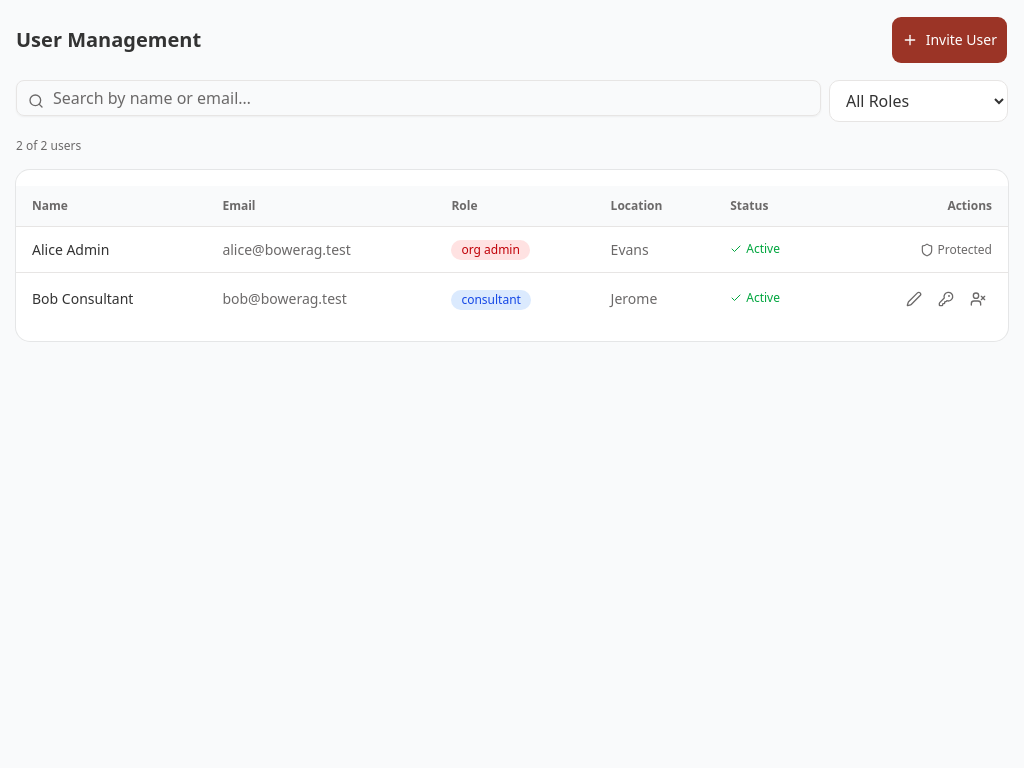
Test: AdminUsers › 5. shows invite modal on button click
The image size is (1024, 768).
Check: the heading "User Management" is shown, box [16, 26, 201, 54]
# Click Invite User button
Click the button "Invite User" at (949, 40), box [891, 16, 1008, 64]
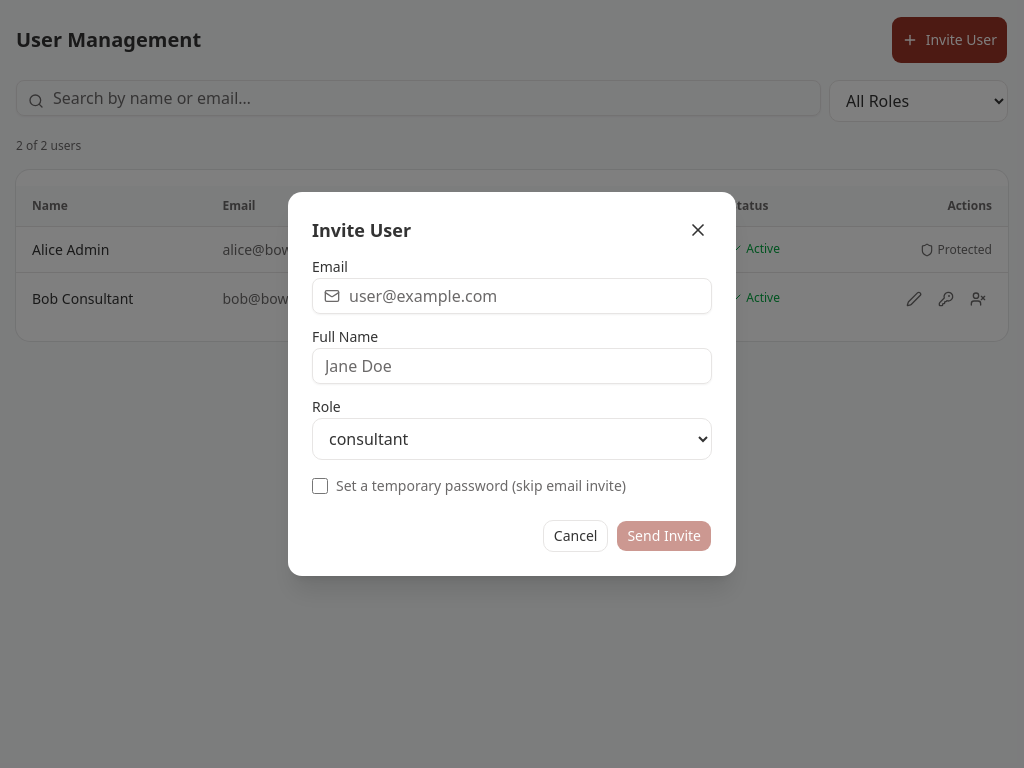
Check: the button "Send Invite" is shown, box [616, 520, 712, 552]
Check: the field labelled "Email" is shown, box [312, 278, 712, 314]
Check: the field labelled "Full Name" is shown, box [312, 348, 712, 384]
